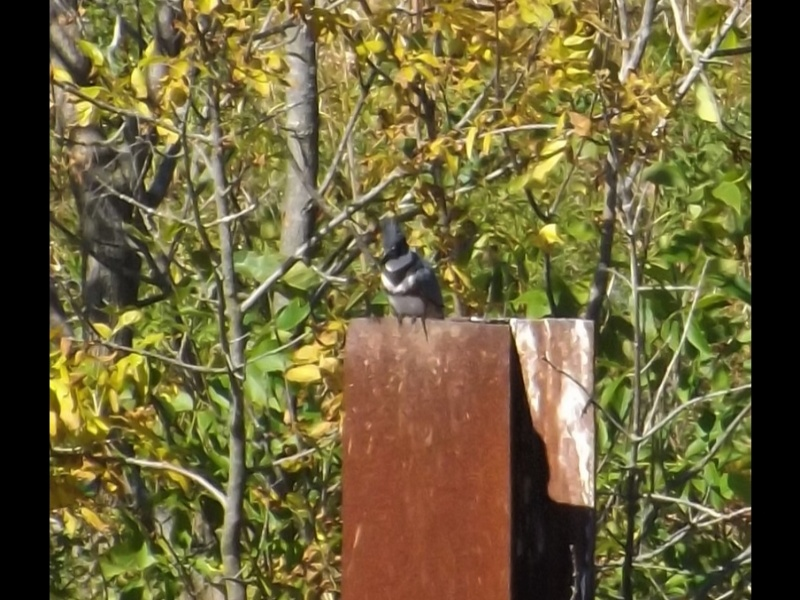kingfisher: (369, 216, 445, 320)
